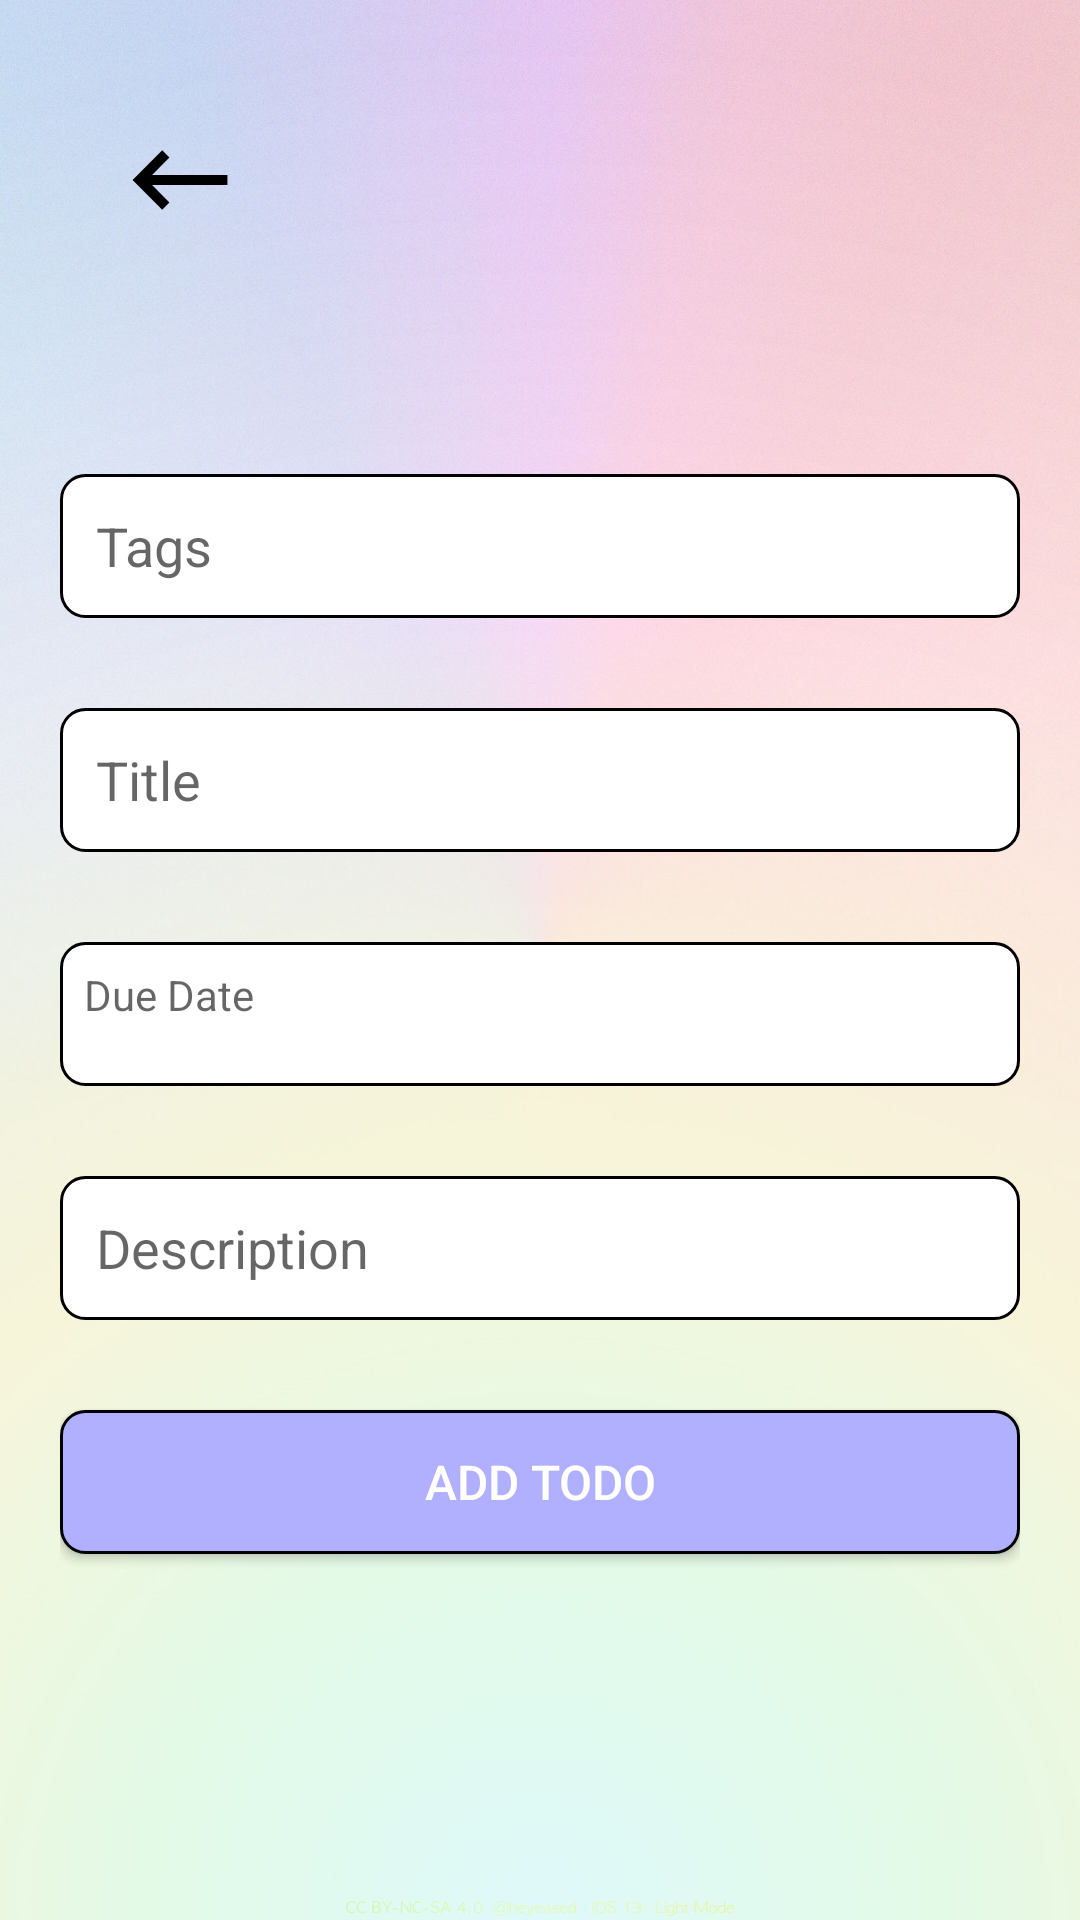

Named icons in this screenshot (1080×1920) and their bounding boxes, (x1, y1, x2, y2):
back: (133, 150, 228, 210)
